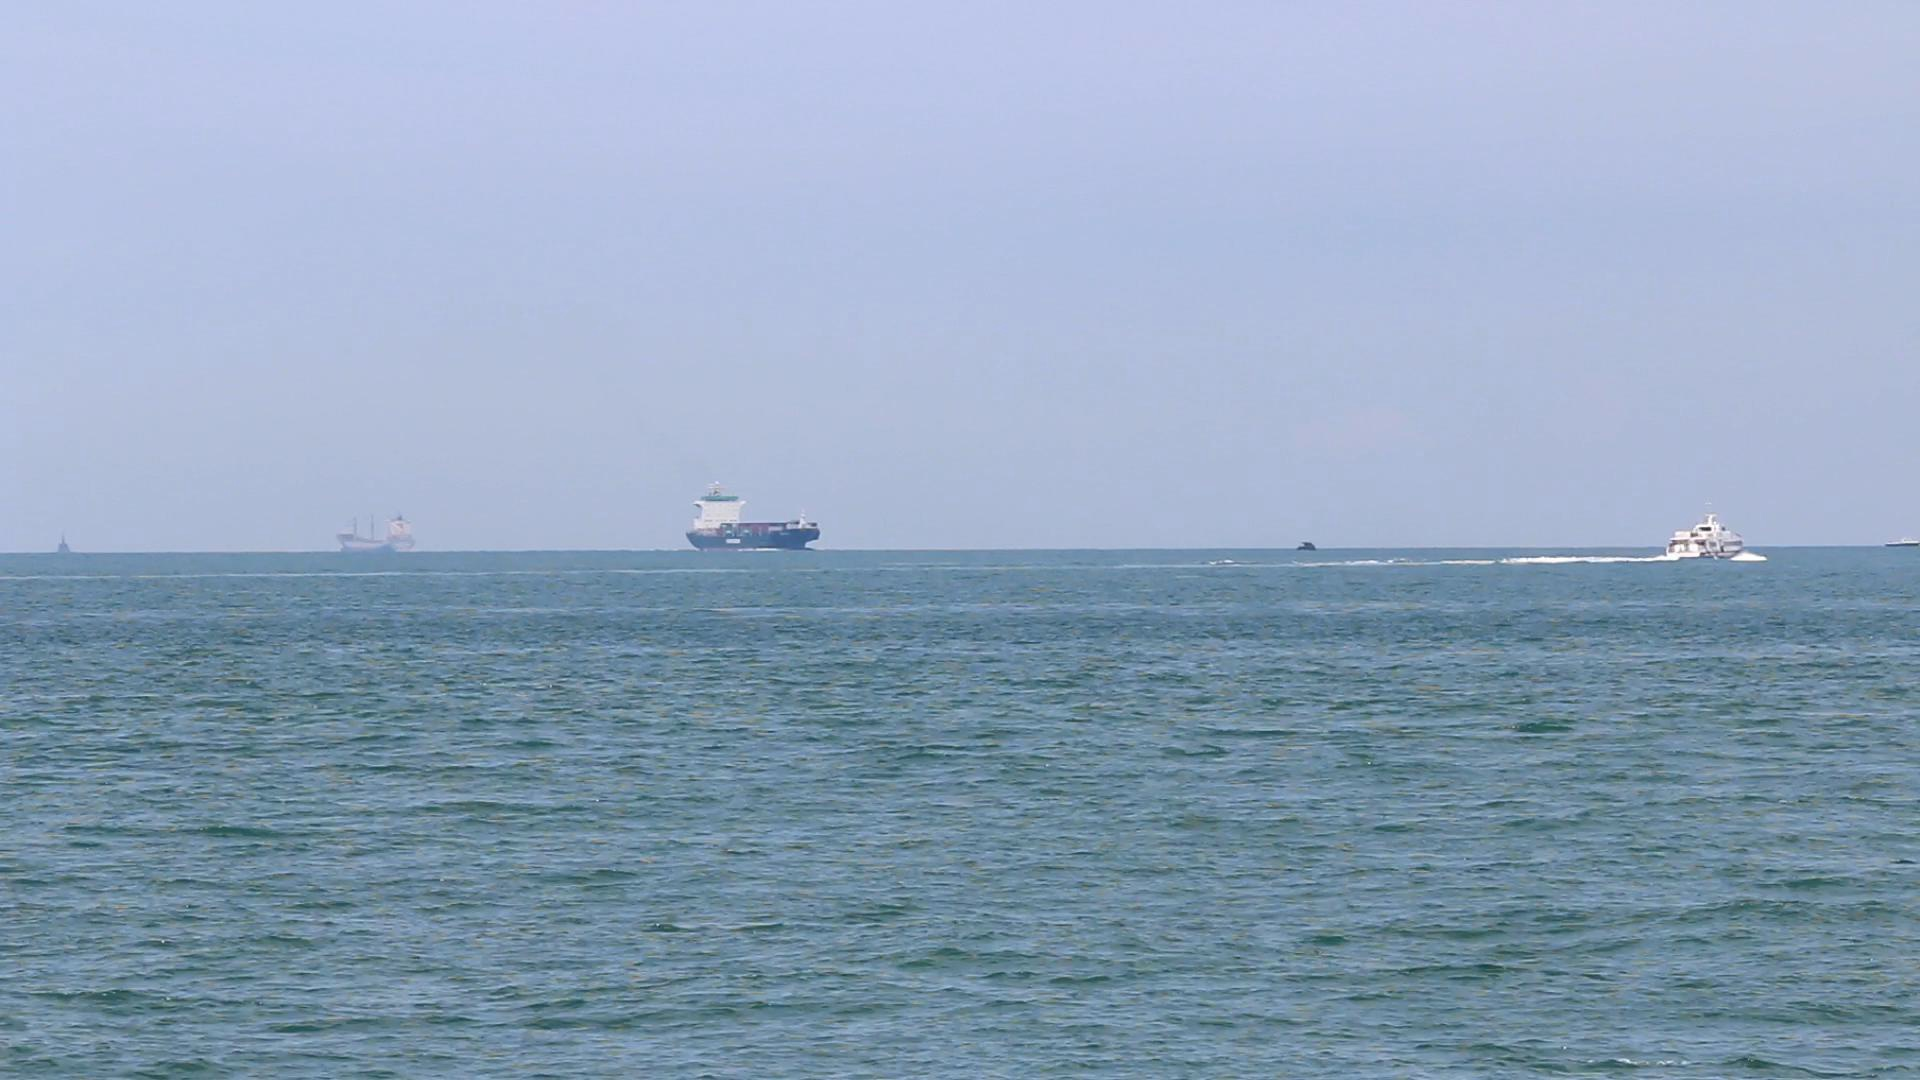Container Ship: (682, 471, 828, 560), (332, 504, 426, 560), (1876, 529, 1920, 553)
